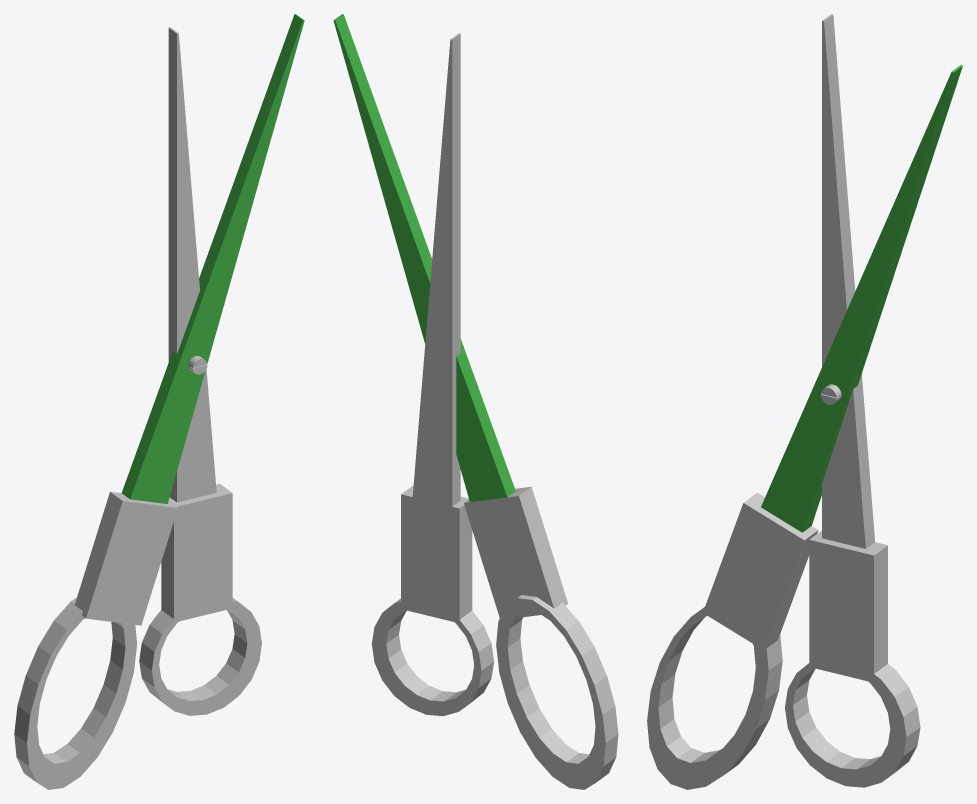
File: TorqueScissors.obj
The picture shows the model from 3 angles, left to right: view 1: azimuth 30°, elevation 25°; view 2: azimuth 150°, elevation 25°; view 3: azimuth 330°, elevation 25°; orthographic projection. The views are drawn at different scales.
Visible parts, largest first — view 1: group_0_9444435, group_0_4634441, group_0_3888547, group_0_14093196; view 2: group_0_9444435, group_0_3888547, group_0_14093196, group_0_4634441; view 3: group_0_9444435, group_0_3888547, group_0_4634441, group_0_14093196.
Boxes of the visible parts, bbox=[...] form: group_0_9444435: bbox=[14, 491, 177, 789]; group_0_4634441: bbox=[121, 14, 304, 503]; group_0_3888547: bbox=[139, 484, 261, 715]; group_0_14093196: bbox=[168, 27, 216, 502]; group_0_9444435: bbox=[464, 486, 618, 789]; group_0_3888547: bbox=[371, 485, 493, 716]; group_0_14093196: bbox=[412, 33, 460, 506]; group_0_4634441: bbox=[333, 14, 515, 501]; group_0_9444435: bbox=[647, 492, 818, 789]; group_0_3888547: bbox=[785, 530, 920, 787]; group_0_4634441: bbox=[761, 65, 962, 532]; group_0_14093196: bbox=[822, 14, 874, 548].
Bounding box in the file's own units: 37.81 × 94 × 4.
